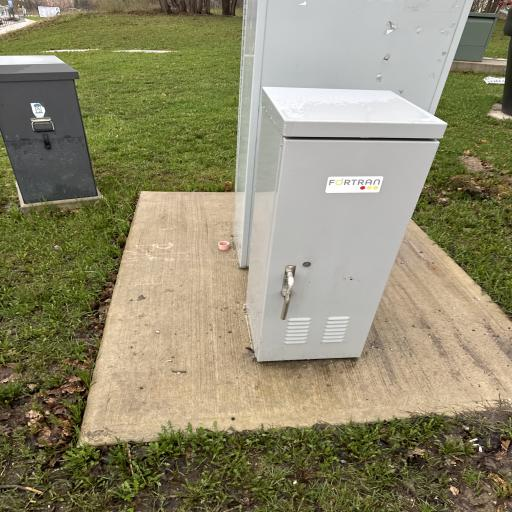Electrical Box: (240, 1, 480, 362), (0, 54, 101, 207)
